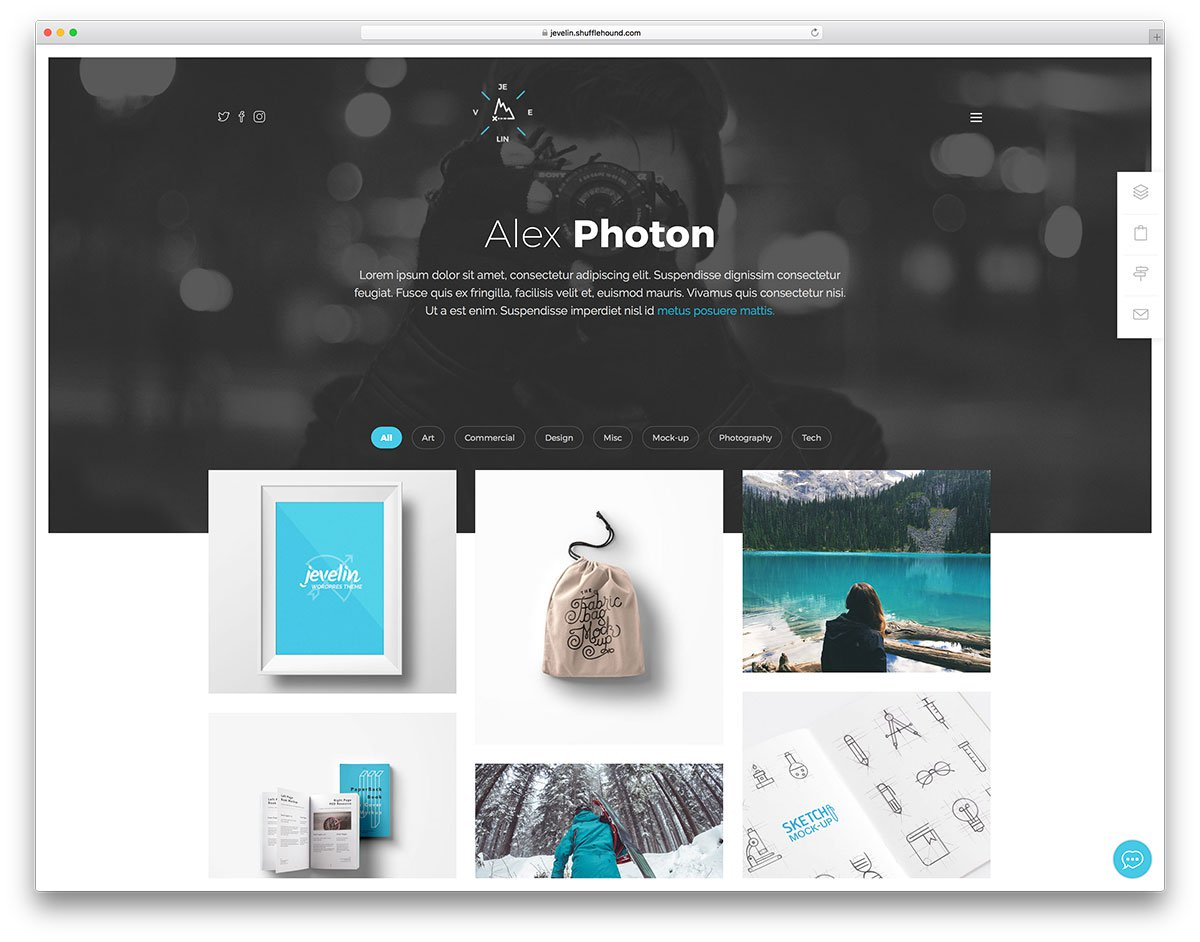button: (706, 417, 792, 458), (637, 417, 703, 456), (453, 422, 529, 455), (530, 419, 589, 456), (793, 413, 838, 455), (405, 421, 450, 457), (587, 419, 636, 452), (362, 421, 407, 455)
